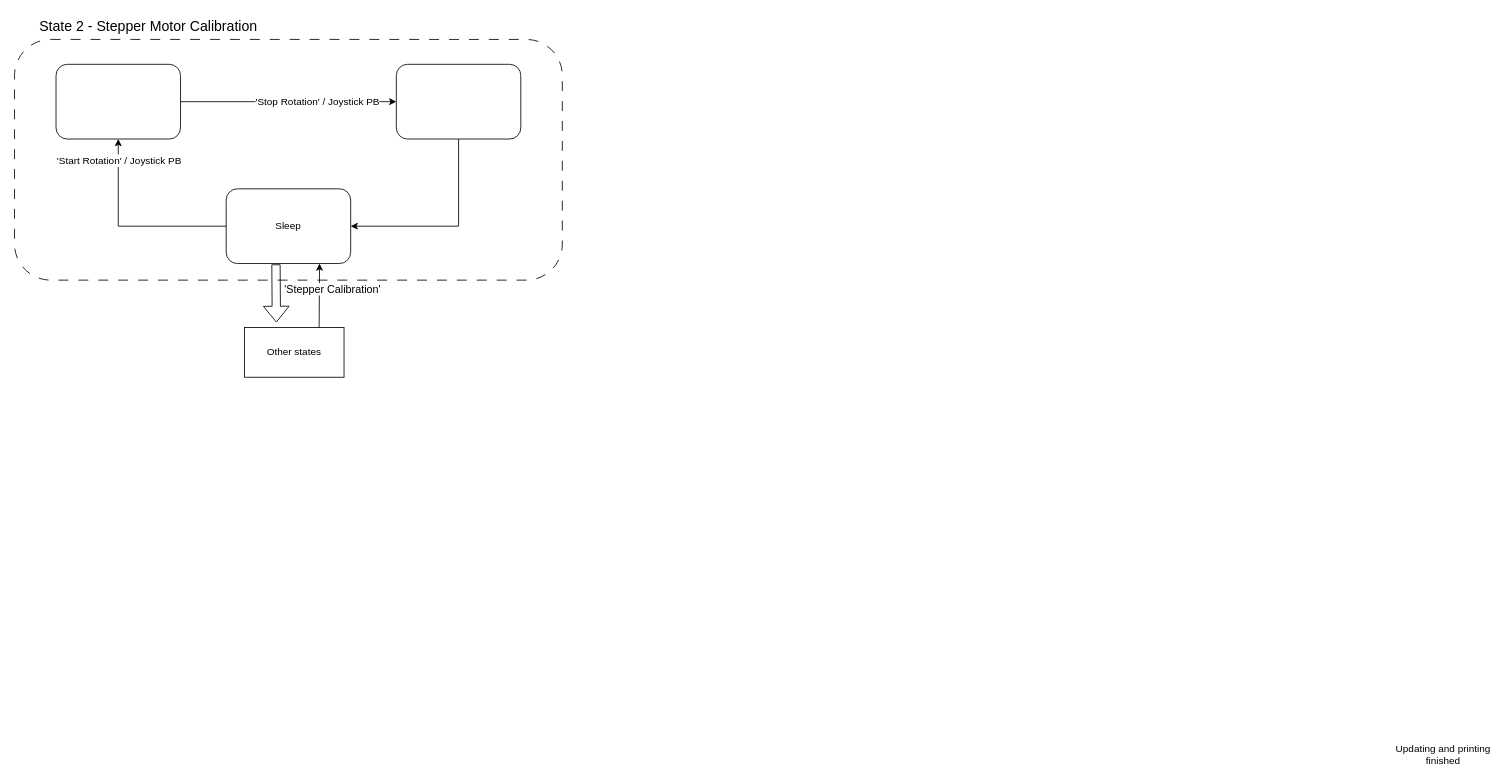
Image size: 1504x780. Some labels were removed from this diagram. The shapes that lost their labels are listed below. From the top down, each one's centre as x and y in pixels, then its label:
At (118,101): "Start Calibration".
At (458,101): "Stop Calibration update and print 'counter' and 'phi'".
